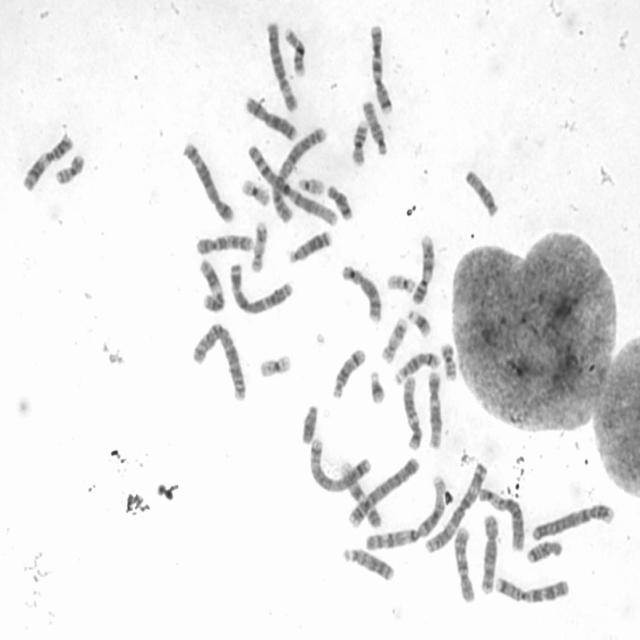A1: (247, 144, 338, 227), (366, 474, 451, 551)
A2: (187, 322, 255, 410), (272, 126, 328, 223)
A3: (426, 461, 487, 555), (230, 262, 294, 318)
B4: (348, 456, 420, 528), (532, 505, 613, 542)
B5: (182, 143, 236, 225), (310, 437, 371, 492)
C10: (452, 526, 476, 602), (196, 236, 252, 254)
C11: (22, 135, 76, 191), (196, 260, 226, 314)
C12: (403, 376, 422, 451), (428, 368, 443, 449)
C6: (265, 21, 298, 112), (480, 488, 526, 553)
C7: (495, 574, 576, 616), (366, 23, 394, 115)
C8: (340, 262, 382, 325), (480, 513, 498, 595)
C9: (336, 462, 383, 529), (411, 234, 435, 304)
D13: (342, 548, 395, 581), (290, 228, 333, 264)
D14: (330, 346, 368, 401), (394, 352, 441, 383)
D15: (461, 166, 499, 219), (362, 101, 388, 156)
E16: (284, 26, 307, 80), (349, 119, 369, 167)
E17: (381, 317, 408, 366), (250, 220, 267, 275)
E18: (326, 184, 353, 222), (527, 539, 564, 565)
F19: (258, 354, 292, 384), (240, 177, 270, 209)
F20: (56, 153, 89, 187), (440, 341, 457, 386)
G21: (403, 311, 433, 338), (369, 369, 386, 406)
G22: (384, 272, 414, 296), (296, 177, 327, 199)
X: (245, 97, 298, 143)
Y: (300, 401, 316, 445)
